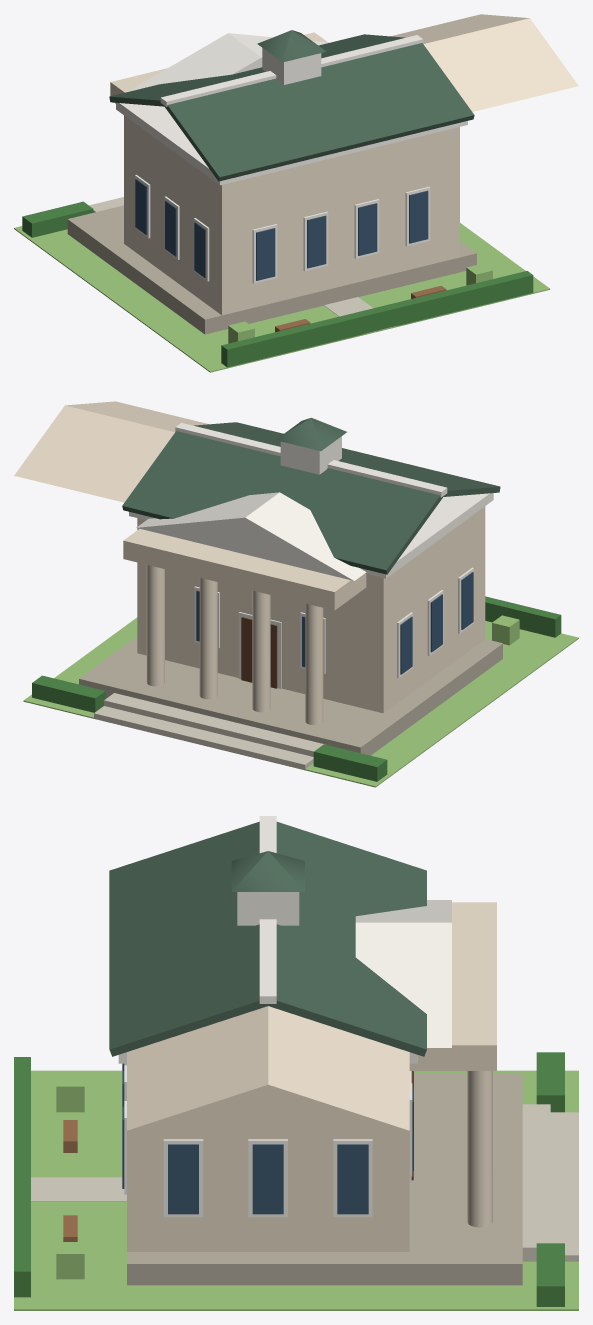
Rendered from library.glb.
The picture shows the model from 3 angles, top to bottom: view 1: azimuth 30°, elevation 25°; view 2: azimuth 150°, elevation 25°; view 3: azimuth 270°, elevation 25°; orthographic projection. The views are drawn at different scales.
Visible parts, largest first — view 1: hall, roof (×2), gable, podium, hedge (×2), window_glass (×7), lawn_side (×2), garden, cornice, pediment, ridge, window_frame (×4) (+5 smaller); view 2: hall, roof (×2), podium, gable, column (×4), pediment, entablature, step (×2), lawn_side (×2), hedge (×3), cornice, ridge (+8 smaller); view 3: roof (×2), podium, gable, hall, garden, lawn_side, pediment, step (×2), entablature, hedge (×3), window_glass (×3), column (+7 smaller).
Boxes of the visible parts, left/top/right/bottom form: hall: left=124, top=115, right=459, bottom=315; roof (×2): left=109, top=34, right=474, bottom=181; gable: left=391, top=14, right=578, bottom=111; podium: left=67, top=205, right=476, bottom=334; hedge (×2): left=22, top=201, right=533, bottom=367; window_glass (×7): left=135, top=179, right=428, bottom=280; lawn_side (×2): left=33, top=223, right=510, bottom=343; garden: left=171, top=260, right=550, bottom=372; cornice: left=116, top=102, right=467, bottom=185; pediment: left=127, top=33, right=329, bottom=91; ridge: left=160, top=35, right=423, bottom=106; window_frame (×4): left=252, top=186, right=430, bottom=283; hall: left=137, top=506, right=485, bottom=713; roof (×2): left=122, top=422, right=500, bottom=574; podium: left=79, top=636, right=502, bottom=755; gable: left=14, top=401, right=208, bottom=502; column (×4): left=146, top=565, right=323, bottom=725; pediment: left=136, top=492, right=366, bottom=580; entablature: left=123, top=528, right=366, bottom=610; step (×2): left=94, top=693, right=325, bottom=770; lawn_side (×2): left=54, top=617, right=538, bottom=772; hedge (×3): left=32, top=596, right=561, bottom=781; cornice: left=129, top=493, right=493, bottom=578; ridge: left=175, top=423, right=447, bottom=497; roof (×2): left=109, top=821, right=426, bottom=1056; podium: left=127, top=1073, right=522, bottom=1285; gable: left=127, top=1006, right=409, bottom=1130; hall: left=127, top=1130, right=409, bottom=1251; garden: left=14, top=1070, right=126, bottom=1310; lawn_side: left=127, top=1285, right=522, bottom=1310; pediment: left=355, top=900, right=451, bottom=1047; step (×2): left=522, top=1104, right=578, bottom=1261; entablature: left=409, top=902, right=496, bottom=1070; hedge (×3): left=14, top=1052, right=564, bottom=1306; window_glass (×3): left=168, top=1144, right=368, bottom=1214; column: left=467, top=1071, right=492, bottom=1227.
Bounding box in the file's own units: 24 × 13.3 × 20.
